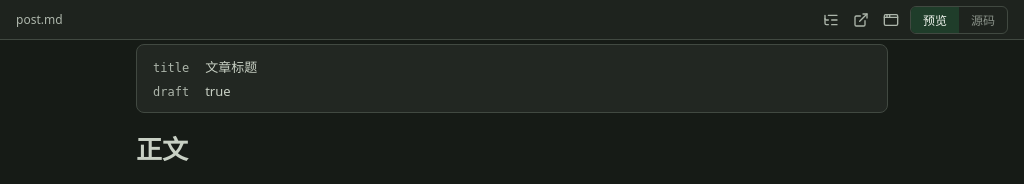
Test: FileView markdown 预览 › front matter：预览态元数据卡 + 正文剥离裸 YAML；源码态原文（§2.5）
Expected: the element with class "md-frontmatter" is shown, [136,44,888,113]
Expected: the text with class "md-fm-key" reads "title", [153,61,189,75]
# 源码态：原文完整（front matter 属于源码）
Click the button "源码" at point(983, 20), box [959,6,1007,32]
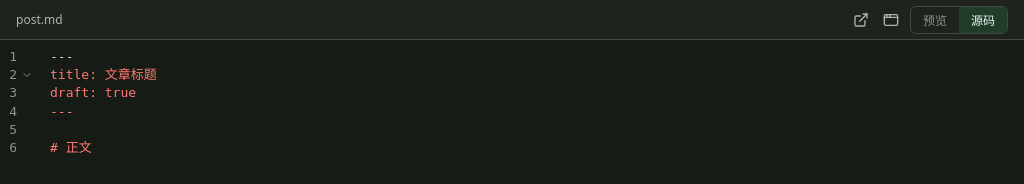
Now the field with class "cm-content" shows "title: 文章标题", box [50,49,157,155]
